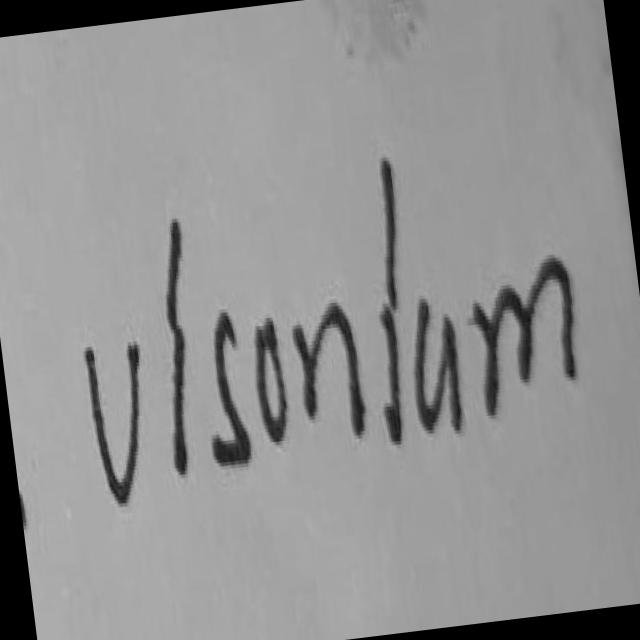V: (84, 344, 138, 503)
i: (381, 303, 401, 442), (381, 157, 396, 307), (173, 325, 185, 472), (166, 218, 181, 327)
m: (475, 258, 575, 412)
n: (293, 303, 365, 432)
o: (256, 317, 287, 439)
s: (213, 313, 249, 461)
u: (415, 299, 462, 429)
